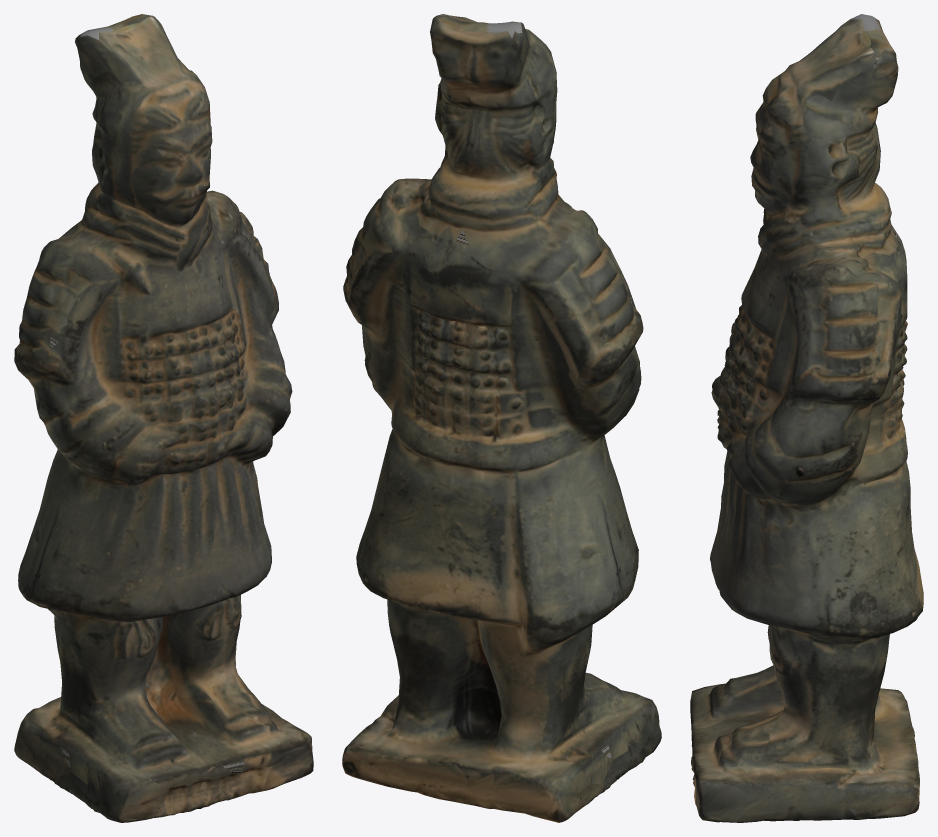
The model's file is mdl_namo_krub_cavalry.gltf.
3 renders of one model, left to right at view 1: azimuth 30°, elevation 25°; view 2: azimuth 150°, elevation 25°; view 3: azimuth 270°, elevation 25°, orthographic. The views are drawn at different scales.
Visible parts, largest first — view 1: Object_2.002; view 2: Object_2.002; view 3: Object_2.002.
Part boxes in pixels (left/top/right/bottom): Object_2.002: left=14, top=14, right=313, bottom=822; Object_2.002: left=342, top=14, right=661, bottom=822; Object_2.002: left=690, top=14, right=923, bottom=822.
Size of the model in its own units: 13.14 by 35.77 by 10.24.
2 materials, 2 textured.
